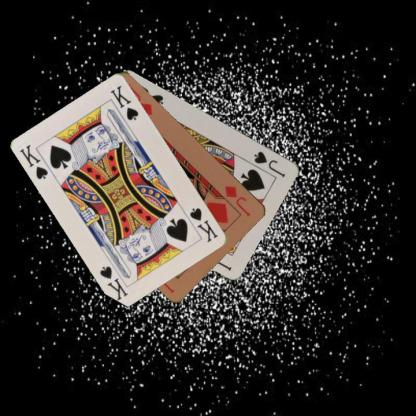Jd: (222, 182, 252, 218)
Js: (251, 148, 287, 179)
Ks: (17, 141, 50, 181), (187, 205, 220, 244)
